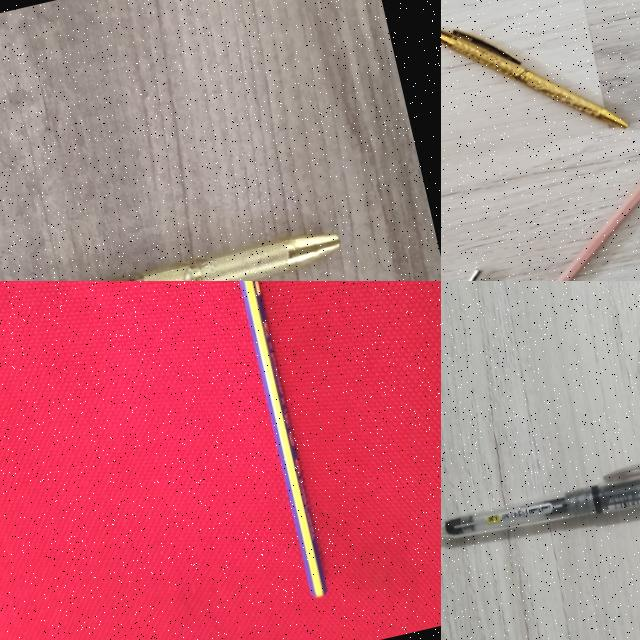pen: (441, 465, 639, 538)
pencil: (483, 99, 640, 281), (242, 281, 325, 597)
signature pen: (441, 0, 623, 165), (113, 235, 339, 280)
